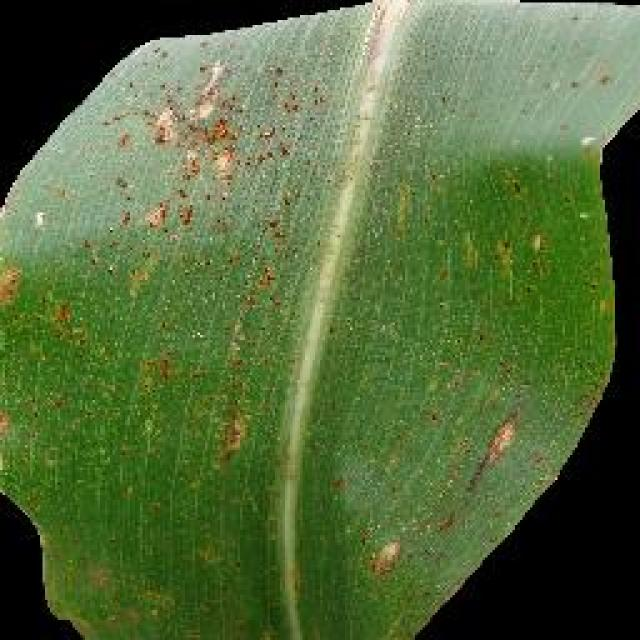Corn Common Rust: (80, 31, 346, 640)
